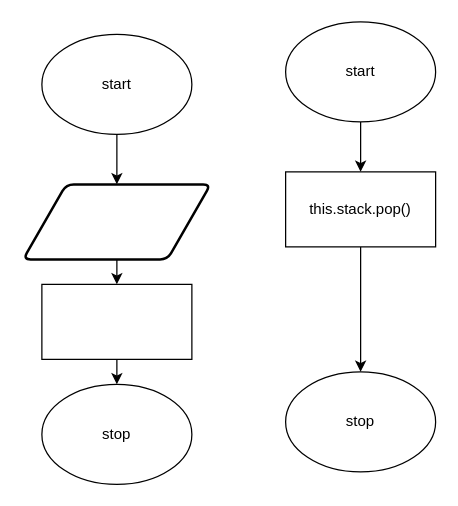
This 458x506 diagram has some shape labels left out. The shapes that lost their labels are listed below. From the top down, each one's box as (x1, y1, x2, y2) in pixels, then its label:
(21, 182, 211, 260): get pushedNumber
(41, 283, 192, 359): this.stack.push(pushed number)
